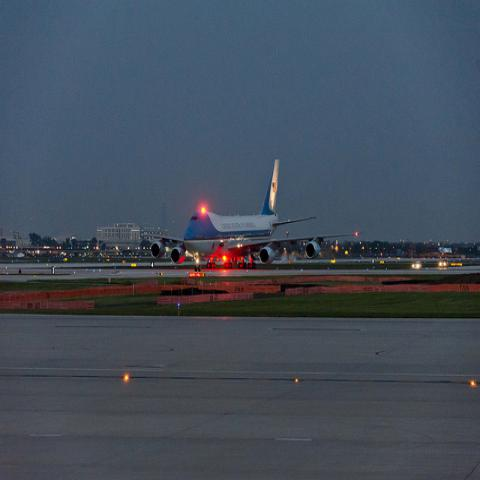car: (438, 259, 449, 269), (412, 260, 422, 270)
